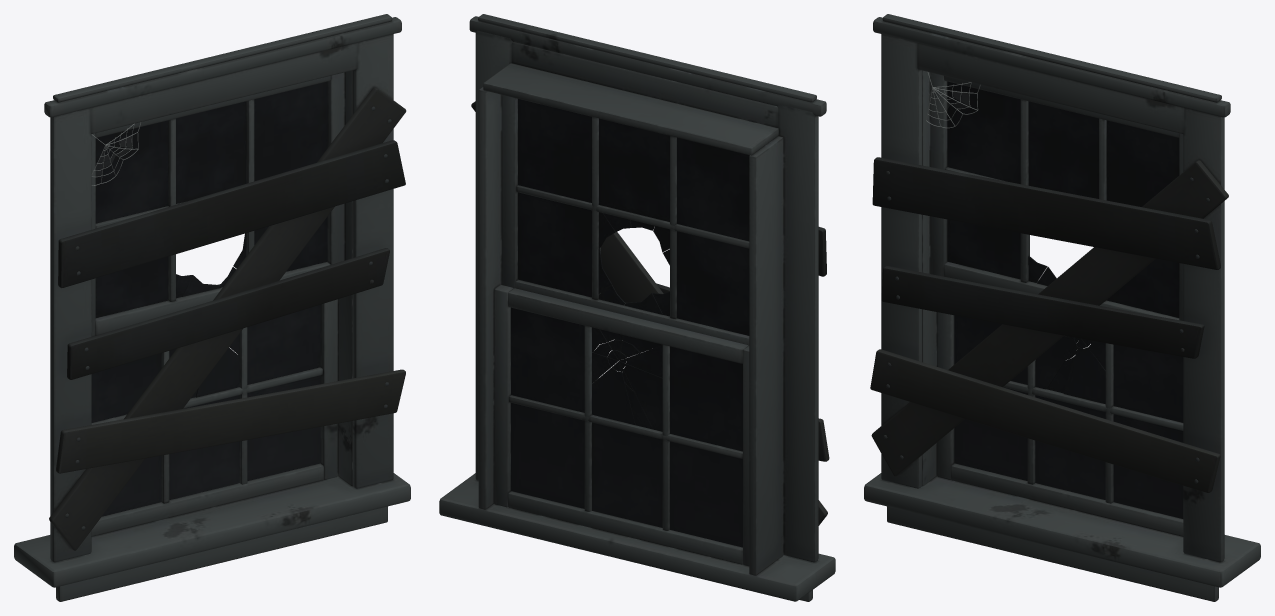
File: boarded-window.glb
The picture shows the model from 3 angles, left to right: view 1: azimuth 30°, elevation 25°; view 2: azimuth 150°, elevation 25°; view 3: azimuth 330°, elevation 25°; orthographic projection.
Parts seen in each view (by area): view 1: boarded-window_body, boarded-window_web; view 2: boarded-window_body; view 3: boarded-window_body, boarded-window_web.
Boxes of the visible parts, <box> form: boarded-window_body: <box>14,14,410,601</box>; boarded-window_web: <box>91,122,140,185</box>; boarded-window_body: <box>439,14,835,601</box>; boarded-window_body: <box>864,14,1260,601</box>; boarded-window_web: <box>926,72,980,128</box>.
Bounding box in the file's own units: 1.2 × 1.62 × 0.235.
3 materials, 1 textured.
